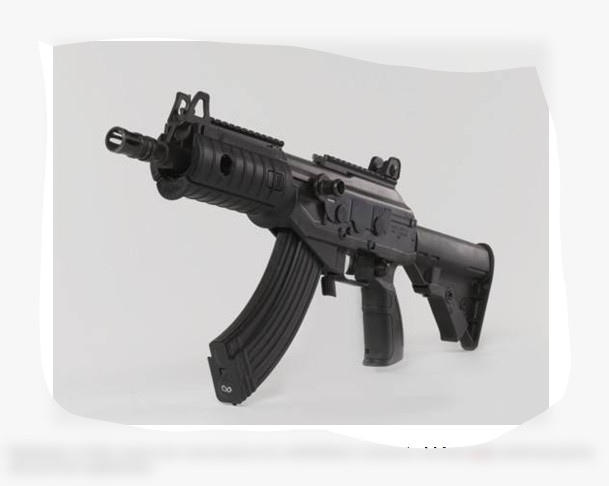Arma Real: (105, 89, 496, 402)
